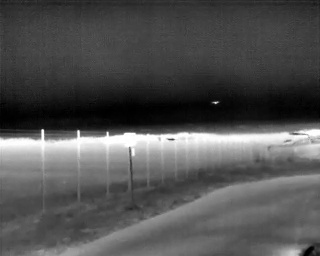AIRPLANE: (211, 98, 221, 107)
